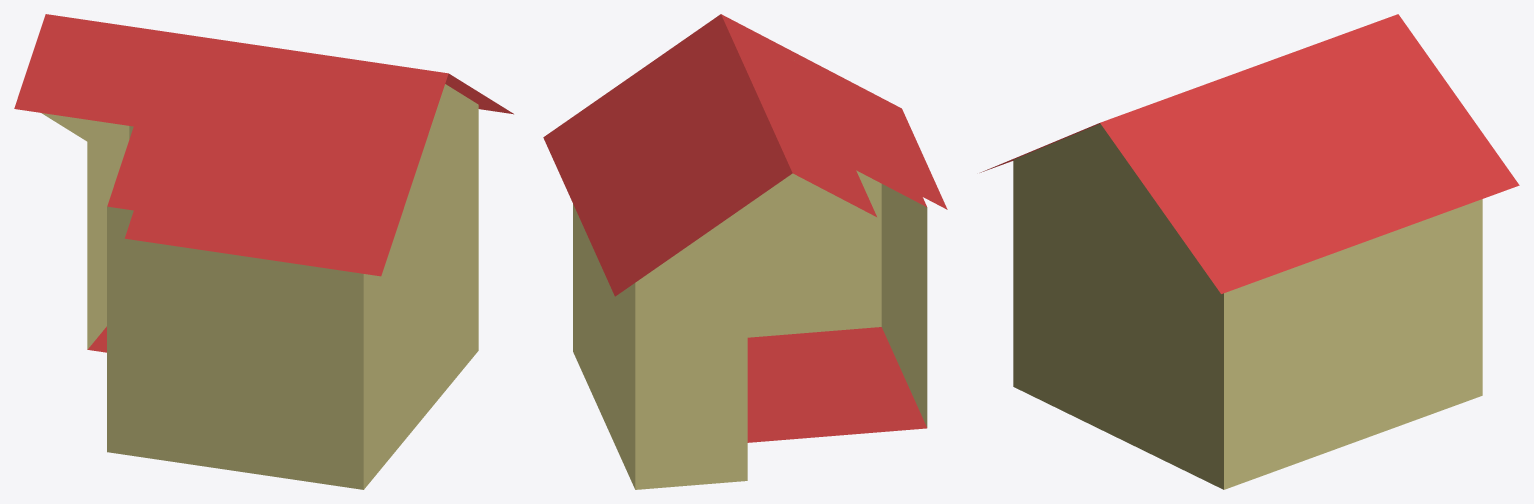
3 renders of one model, left to right at view 1: azimuth 30°, elevation 25°; view 2: azimuth 150°, elevation 25°; view 3: azimuth 270°, elevation 25°, orthographic. The views are drawn at different scales.
Bounding box in the file's own units: 13.32 × 15.56 × 10.22.
